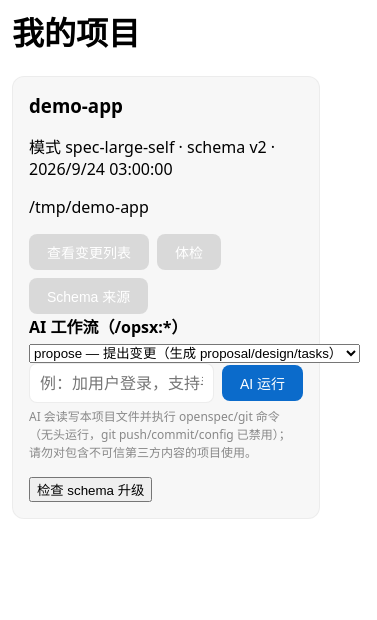
Scenario: ProjectsPage 项目列表 › runCommand 请求失败显示错误横幅
This screenshot has width=377, height=620.
What coordinates should you click on to do the following:
click the button "Schema 来源"
I would click on:
 (89, 296)
Its box is [29, 278, 148, 314].
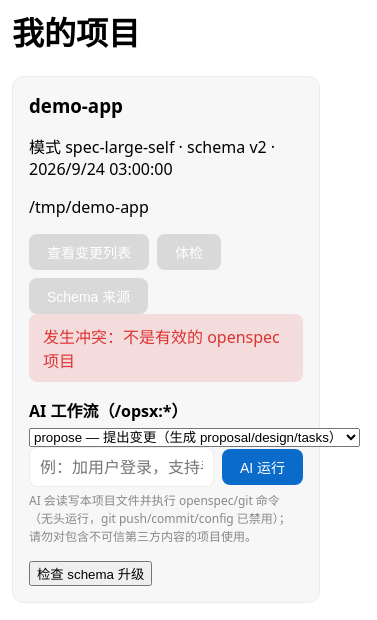
Now the text "发生冲突：不是有效的 openspec 项目" is shown, box [29, 314, 303, 382]
